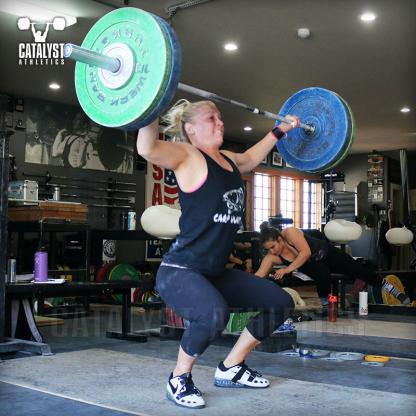Barbell: (70, 5, 186, 129), (272, 83, 361, 173)
